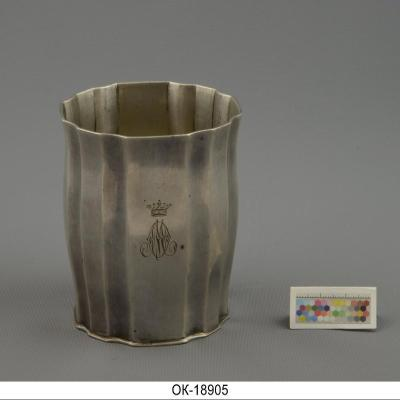dpi: (58, 82, 242, 348)
